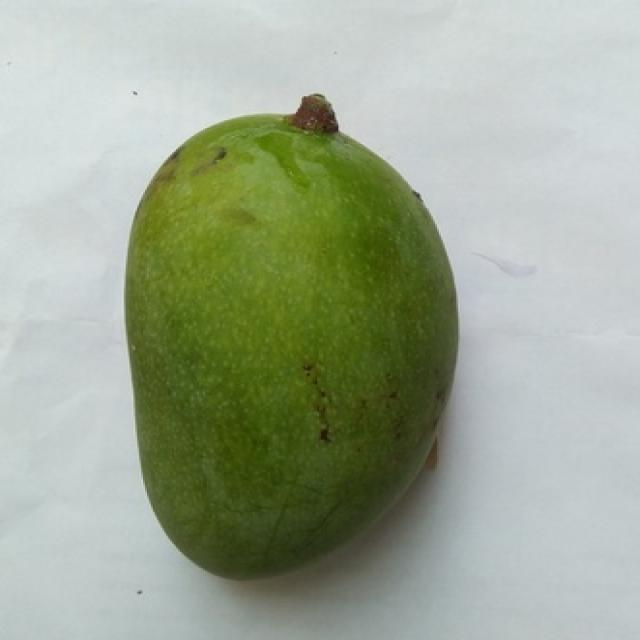Mango: (126, 114, 456, 576)
